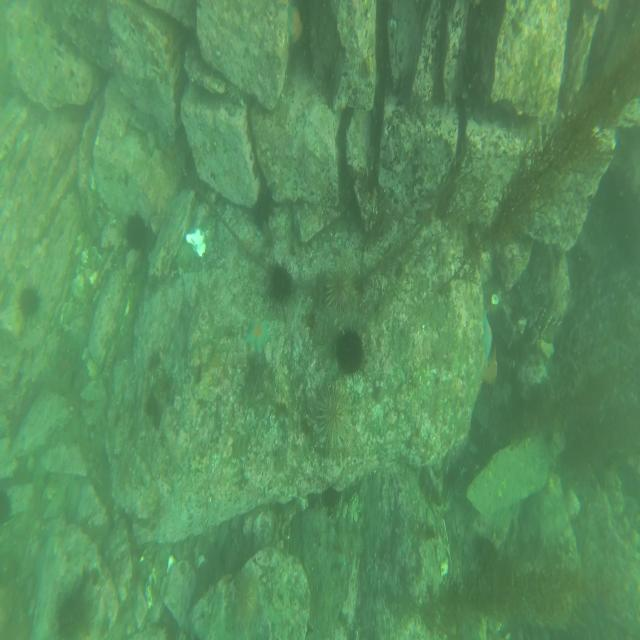echinus: (318, 373, 357, 452), (324, 252, 359, 320), (332, 320, 368, 382), (54, 584, 92, 640), (264, 254, 298, 312), (123, 210, 149, 255), (249, 189, 276, 232), (17, 284, 41, 324), (223, 76, 247, 107), (0, 487, 14, 530)
scallop: (184, 227, 208, 258)
starfish: (245, 312, 273, 360), (479, 306, 495, 365), (285, 2, 304, 48)
